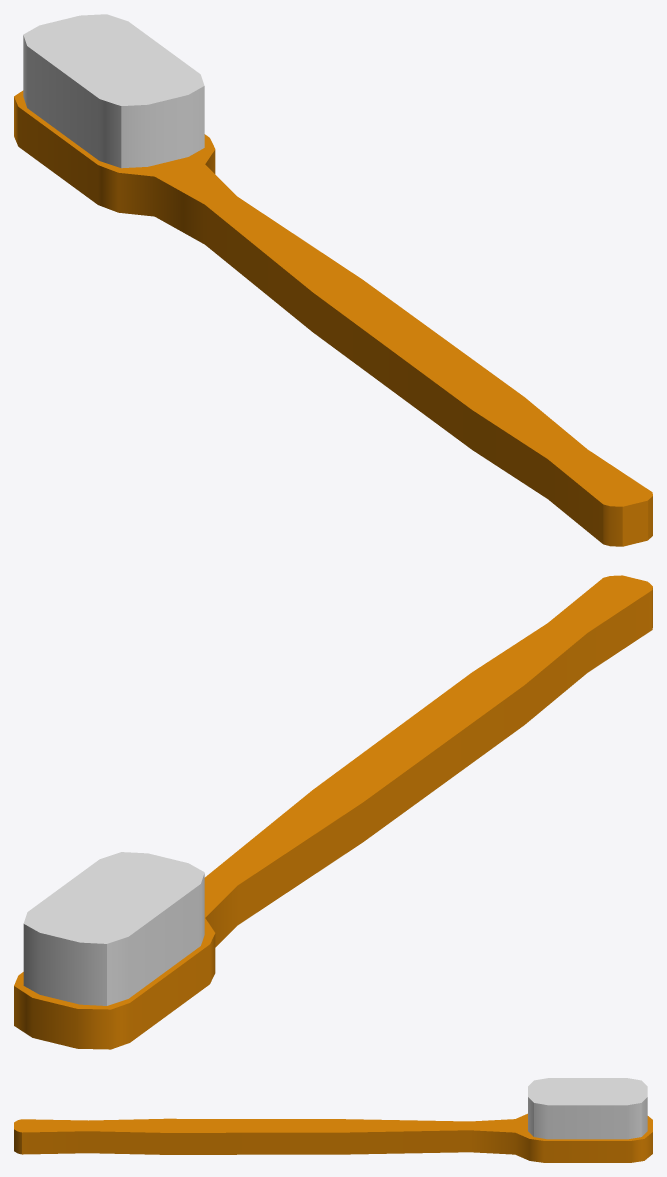
The model's file is Toothbrush.fbx.
3 views of the same model, one above another, from view 1: azimuth 30°, elevation 25°; view 2: azimuth 150°, elevation 25°; view 3: azimuth 270°, elevation 25° (orthographic). The views are drawn at different scales.
Parts seen in each view (by area): view 1: Toothbrush_Body1; view 2: Toothbrush_Body1; view 3: Toothbrush_Body1.
Part boxes in pixels (box(x1,y1,x2,y2)): Toothbrush_Body1: box(14, 14, 652, 546); Toothbrush_Body1: box(14, 575, 652, 1049); Toothbrush_Body1: box(14, 1078, 652, 1162).
Bounding box in the file's own units: 2.47 × 2.16 × 22.25.
